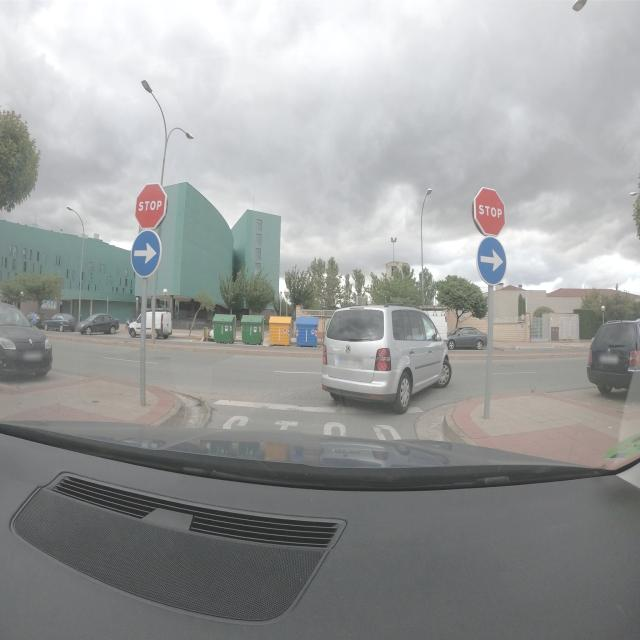car: (320, 305, 453, 414), (586, 318, 640, 400), (0, 300, 53, 380), (130, 309, 173, 340), (446, 326, 488, 350), (78, 313, 120, 335), (44, 313, 76, 332), (26, 311, 47, 329)
